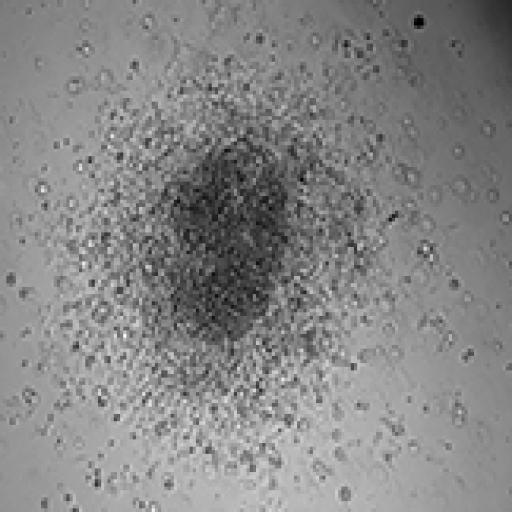CFU-GM: (65, 44, 360, 425), (150, 134, 288, 343)
